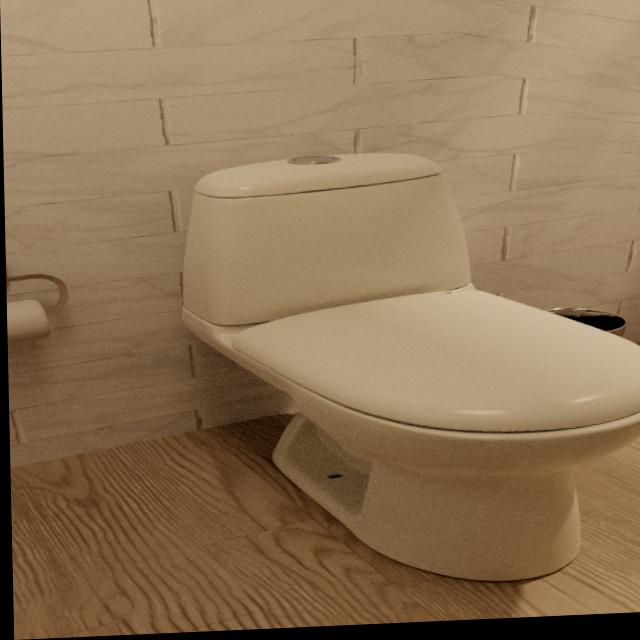toilet: (177, 145, 640, 597)
